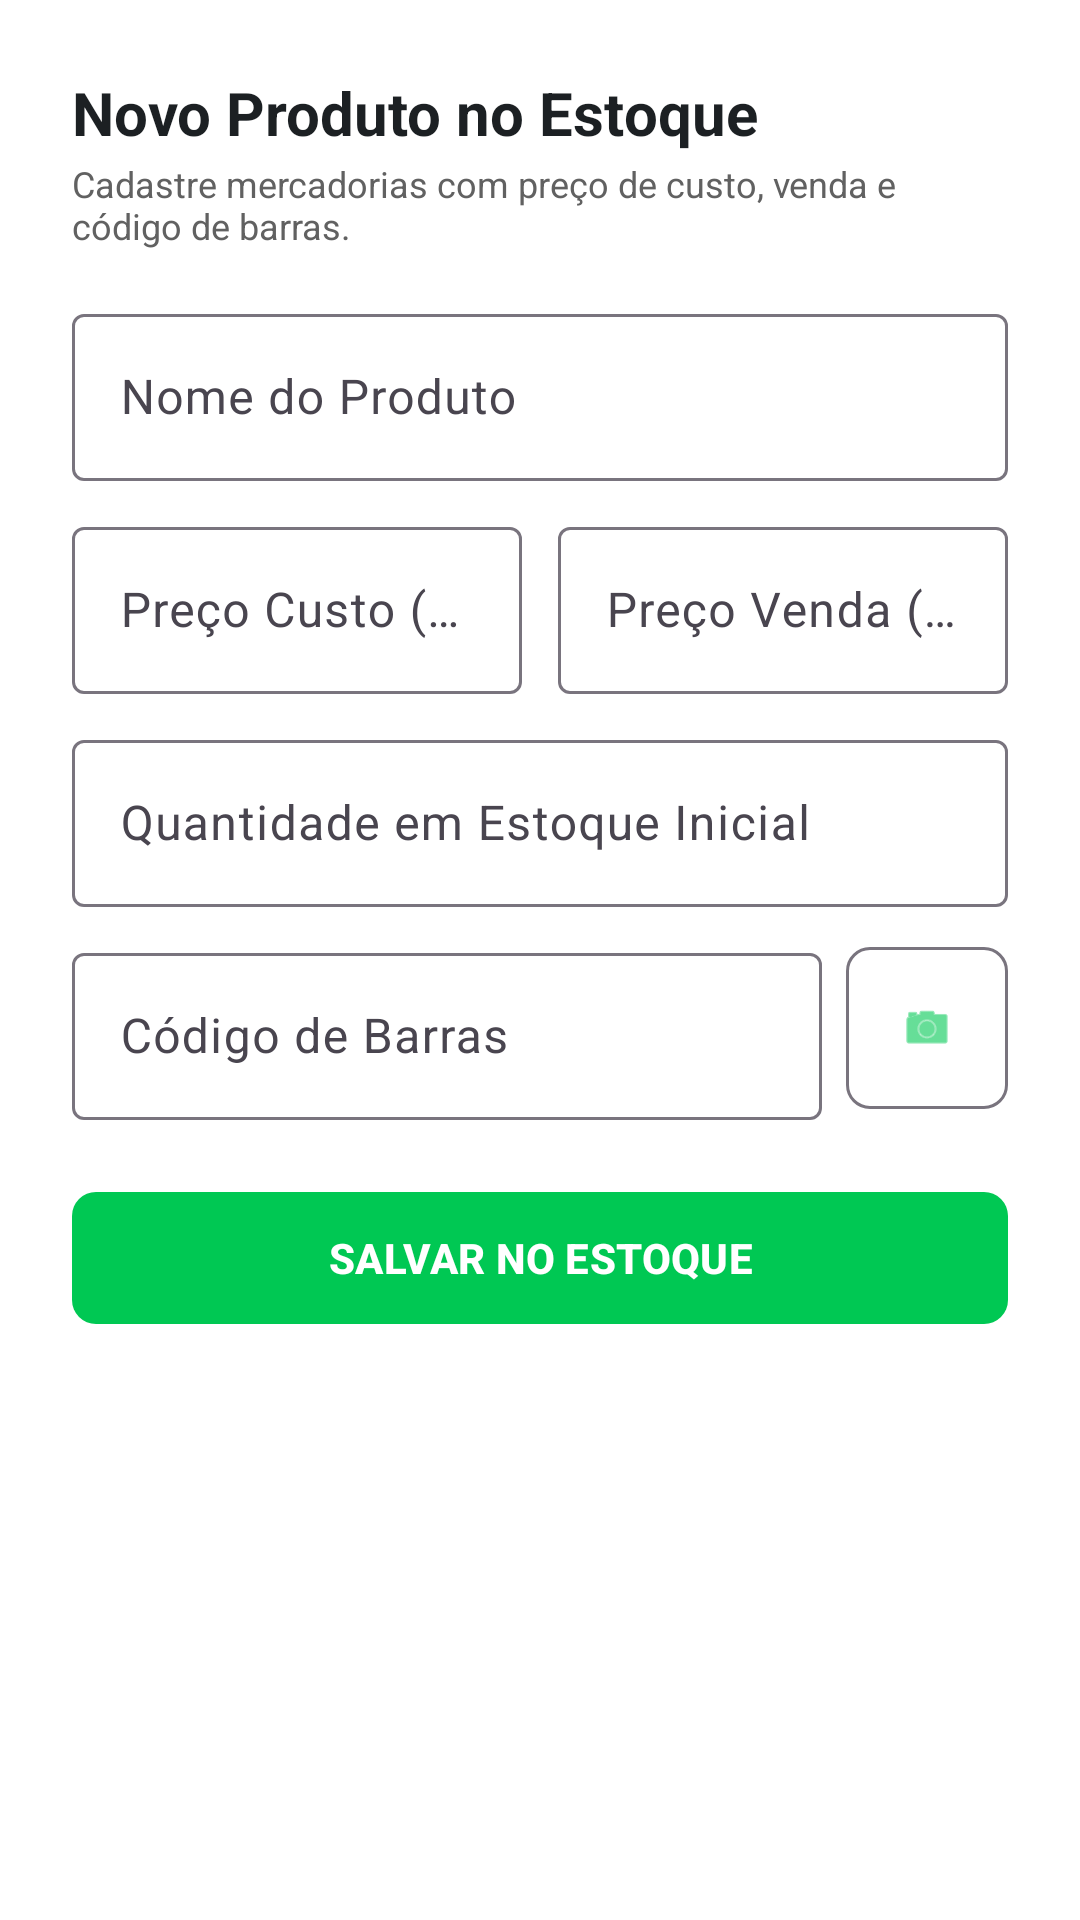

Locate icon controls on the screen. Image size 1080*1920, boxes as (x1, y1, x2, y2).
camera: (846, 947, 1008, 1109)
